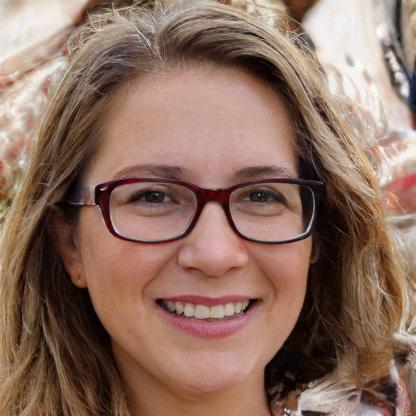glasses: (92, 168, 324, 250)
